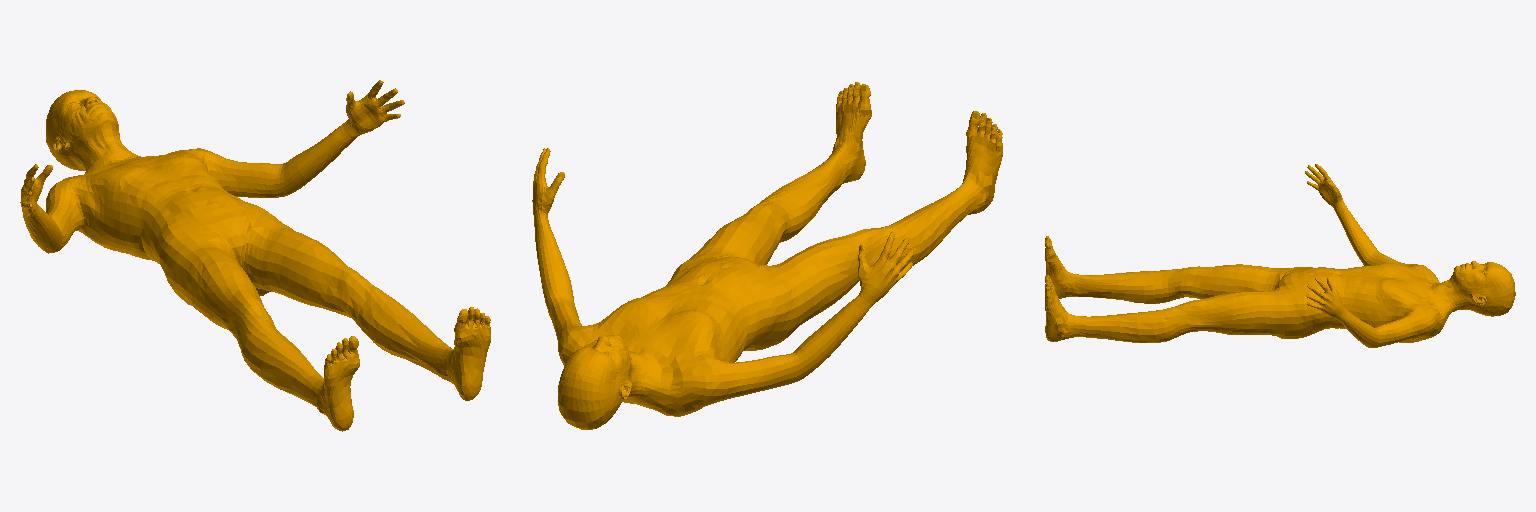
URDF robot description (human_model):
<?xml version="1.0"?>
<robot name="human_model" xmlns:xacro="http://www.ros.org/wiki/xacro">


  <!-- <link name="world"/> -->

  <!-- Used for fixing robot to Gazebo 'base_link' -->
  <!-- <joint name="fixed" type="fixed">
    <parent link="world"/>
    <child link="base_link"/>
  </joint> -->

  <!-- <link name="/base_link">
    <collision>
      <geometry>
        <cylinder length="0.5" radius="0.2"/>
      </geometry>
      <origin xyz="0 0 0.25" rpy="0 0 0"/>
    </collision>
    <visual>
      <geometry>
        <cylinder length="0.5" radius="0.2"/>
      </geometry>
      <origin xyz="0 0 0.25" rpy="0 0 0"/>
    </visual>
    <inertial>
      <origin xyz="0 0 0" rpy="0 0 0"/>
      <mass value="1"/>
      <inertia
        ixx="1.0" ixy="0.0" ixz="0.0"
        iyy="1.0" iyz="0.0"
        izz="1.0"/>
    </inertial>
  </link> -->


  <link name="base_link">
    <collision>
      <origin rpy="0 0 0" xyz="0 0 0.1"/>
      <geometry>
        <mesh filename="package://robotic_ultrasound/models/mesh.STL" scale="0.00001 0.00001 0.00001"/>
      </geometry>
    </collision>
    <visual>
      <origin rpy="0 0 0" xyz="0 0 0.1"/>
      <geometry>
        <mesh filename="package://robotic_ultrasound/models/mesh.STL" scale="0.00001 0.00001 0.00001"/>
      </geometry>
    </visual>
    <inertial>
      <origin xyz="0 0 0" rpy="0 0 0"/>
      <mass value="0.5"/>
      <inertia
        ixx="0.1" ixy="0.1" ixz="0.1"
        iyy="0.1" iyz="0.1"
        izz="0.1"/>
    </inertial>
  </link>
  <!-- <gazebo reference="base_link">
    <material>Gazebo/Blue</material>
  </gazebo> -->


</robot>

--- Render facts (derived) ---
3 views of the same robot in one strip: view 1: azimuth 30°, elevation 25°; view 2: azimuth 150°, elevation 25°; view 3: azimuth 270°, elevation 25° (orthographic).
Robot: human_model — 1 links, 0 joints (none); root link base_link; default pose: every joint at zero.
Visible links, largest first — view 1: base_link; view 2: base_link; view 3: base_link.
Boxes of the visible links, x1,y1,x2,y2 form: base_link: (20, 80, 490, 431); base_link: (532, 82, 1002, 429); base_link: (1045, 164, 1515, 347).
Size in the robot's own frame: 0.1059 by 0.1706 by 0.045 metres.
Meshes: 1 distinct files referenced, 1 mesh visuals loaded (1 binary STL).